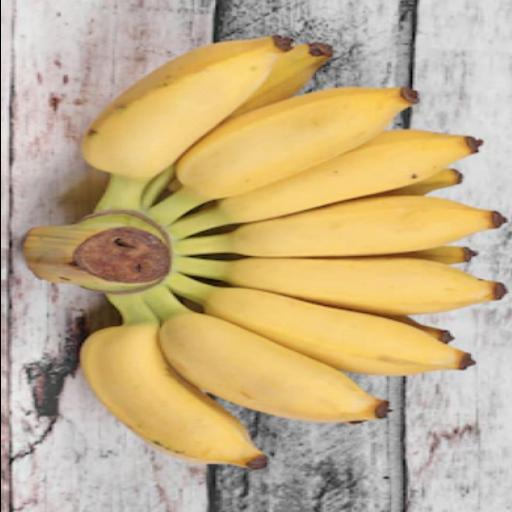banana: (148, 87, 417, 224), (169, 129, 480, 238), (81, 294, 266, 468), (150, 288, 387, 421), (167, 272, 472, 374), (82, 35, 290, 178), (174, 195, 505, 255), (174, 256, 505, 313), (229, 42, 332, 117), (379, 168, 462, 194), (384, 314, 452, 342), (380, 245, 476, 263)
